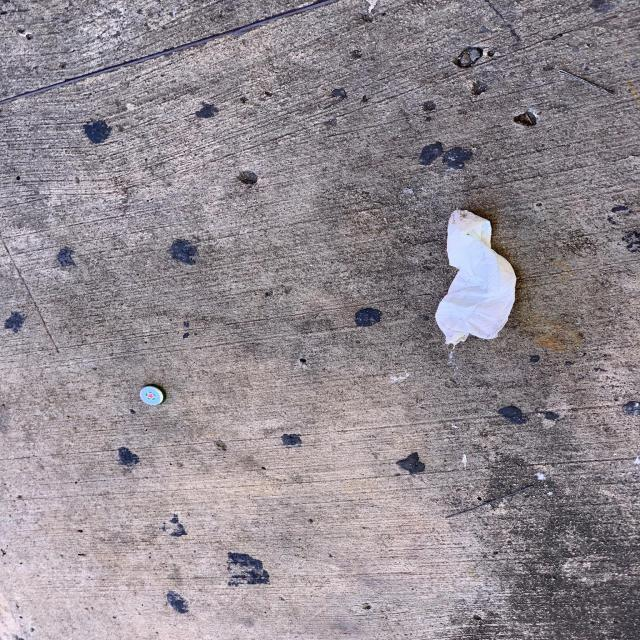litter: (436, 208, 518, 346), (443, 486, 532, 520), (557, 69, 616, 96), (140, 388, 164, 404)
